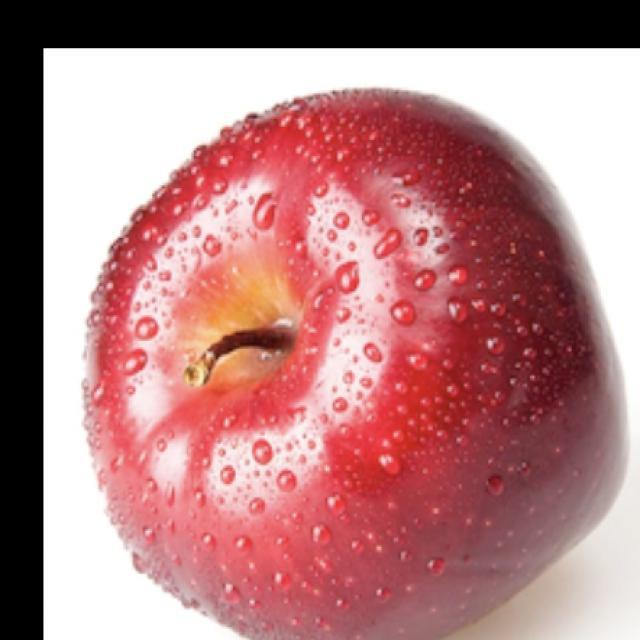Fresh Apple: (87, 90, 639, 640)
